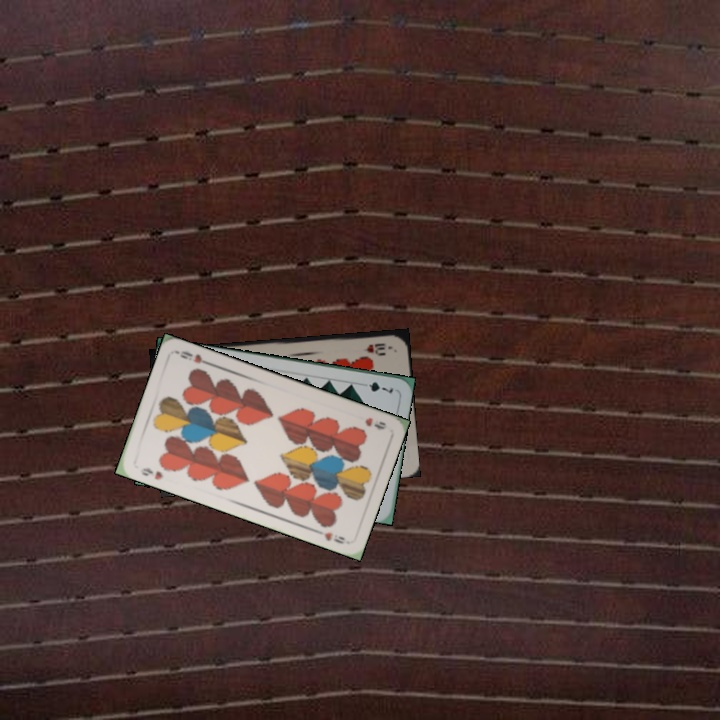G7: (356, 378, 396, 396)
H10: (359, 339, 388, 355)
H9: (361, 413, 389, 432), (136, 464, 165, 482)
